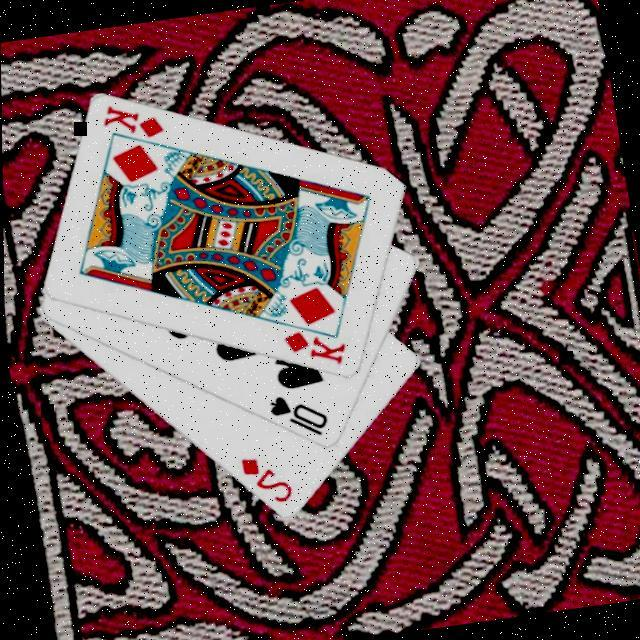10S: (261, 385, 332, 445)
2D: (234, 447, 296, 510)
KD: (277, 321, 350, 375), (96, 93, 167, 146)
